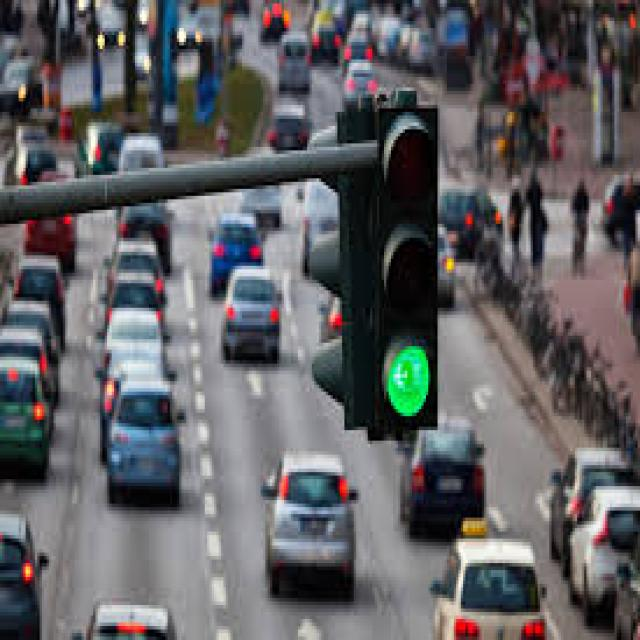green: (343, 103, 445, 432)
